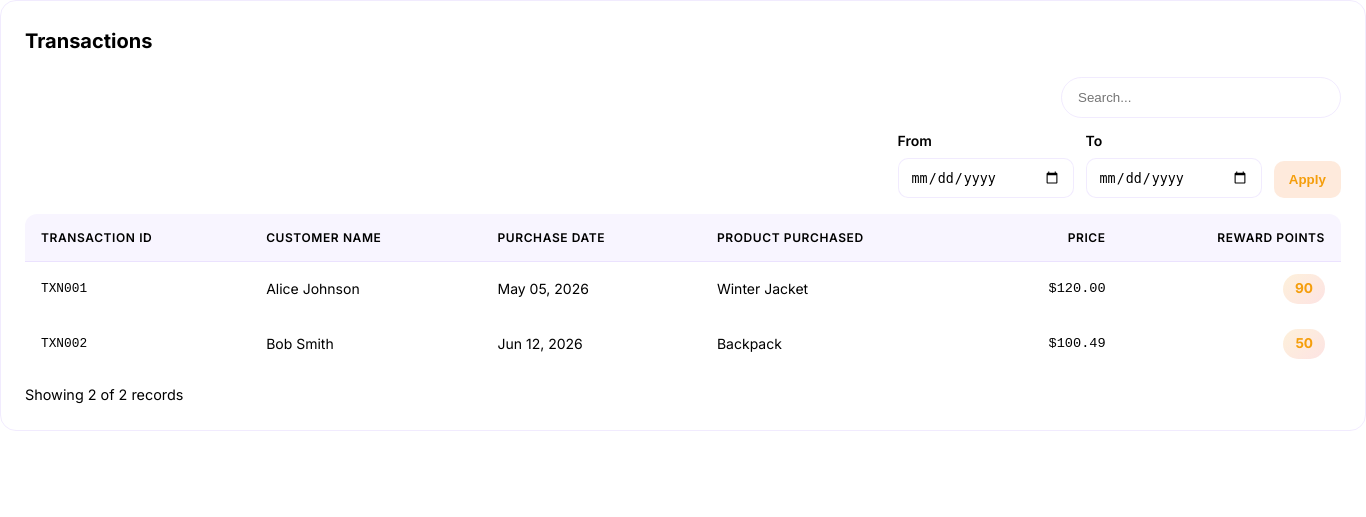
Test case: TransactionsTable › shows validation message when end date is earlier than start date
Step 1. Type "2026-06-15" into the date field named "from date" → (986, 178), box x1=898 y1=158 x2=1074 y2=198
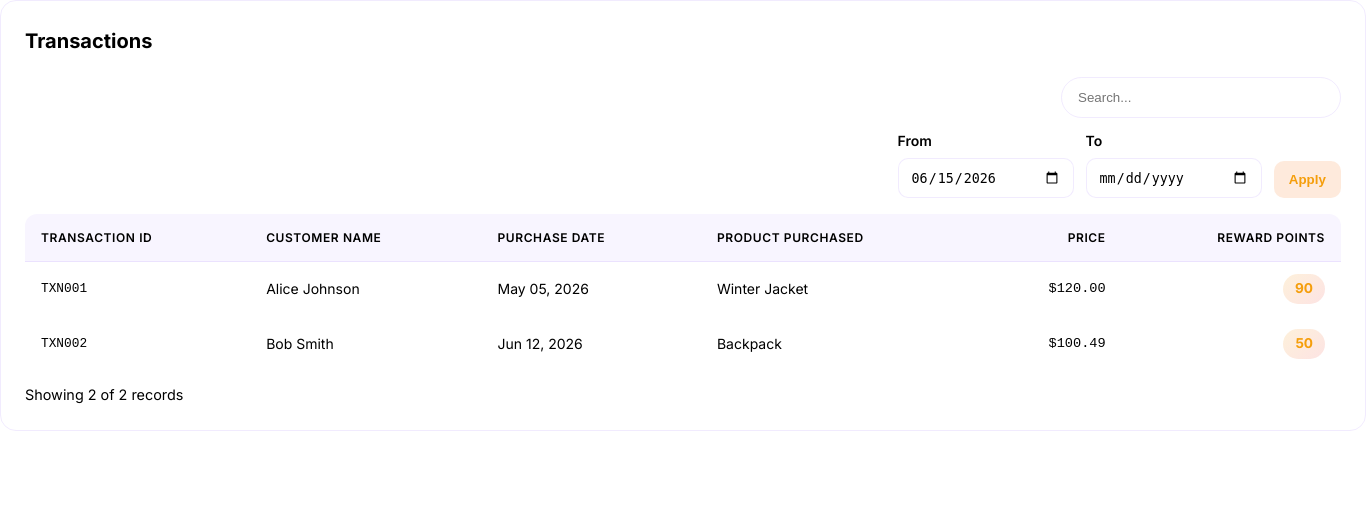
Step 2. Type "2026-05-31" into the date field named "to date" → (1174, 178), box x1=1086 y1=158 x2=1262 y2=198
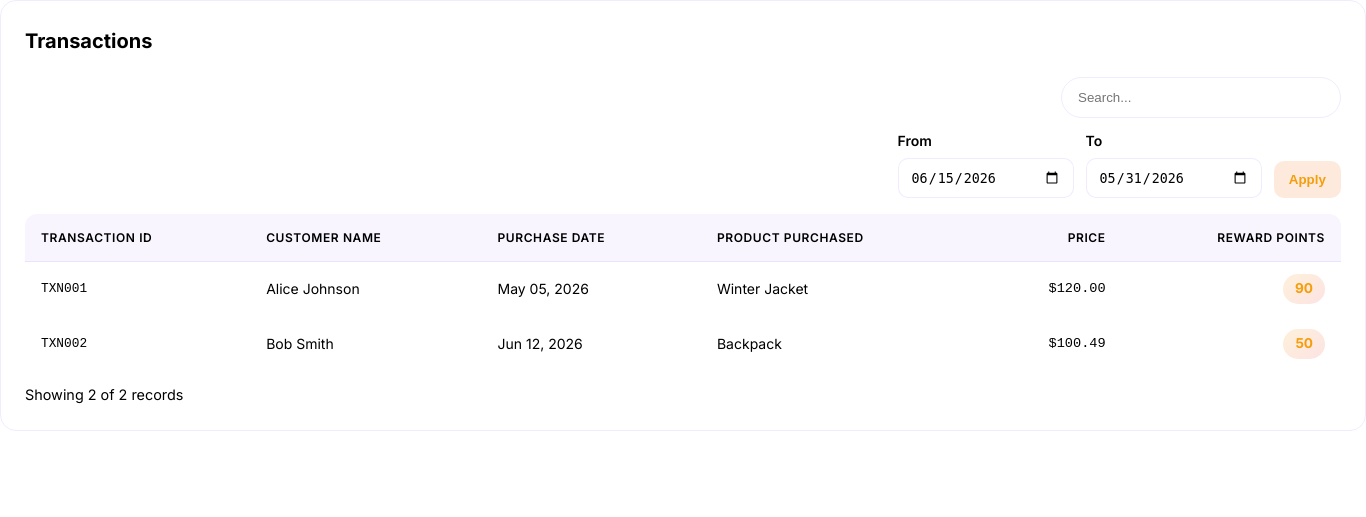
Step 3. Click the button "Apply" → (1307, 179), box x1=1274 y1=161 x2=1341 y2=198
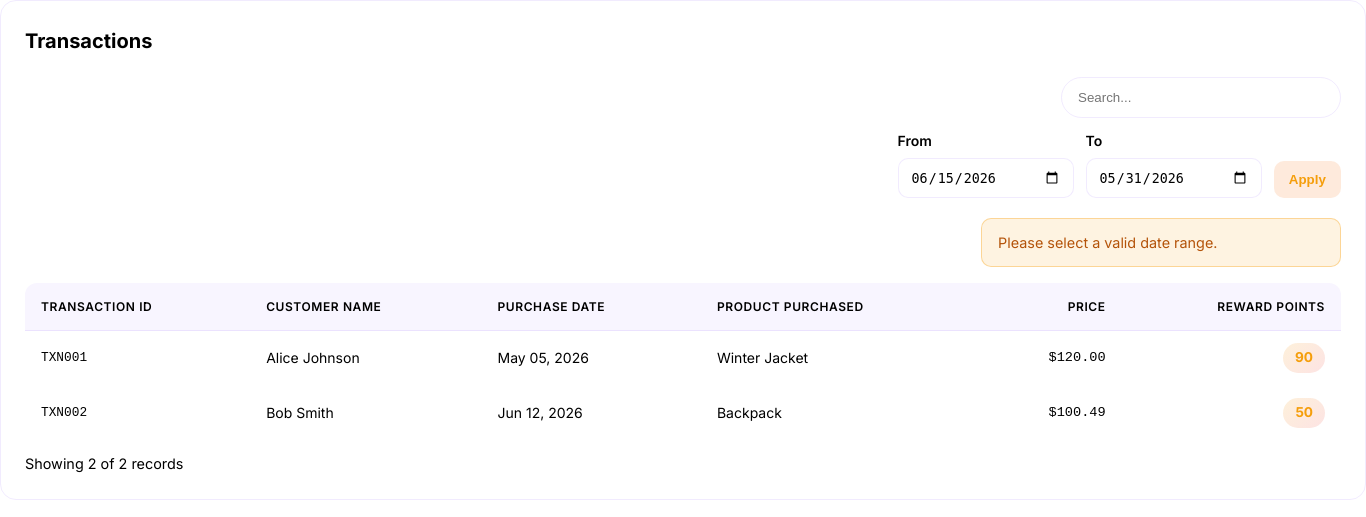
Check: the text "Please select a valid date range." is shown, box x1=981 y1=218 x2=1341 y2=267
